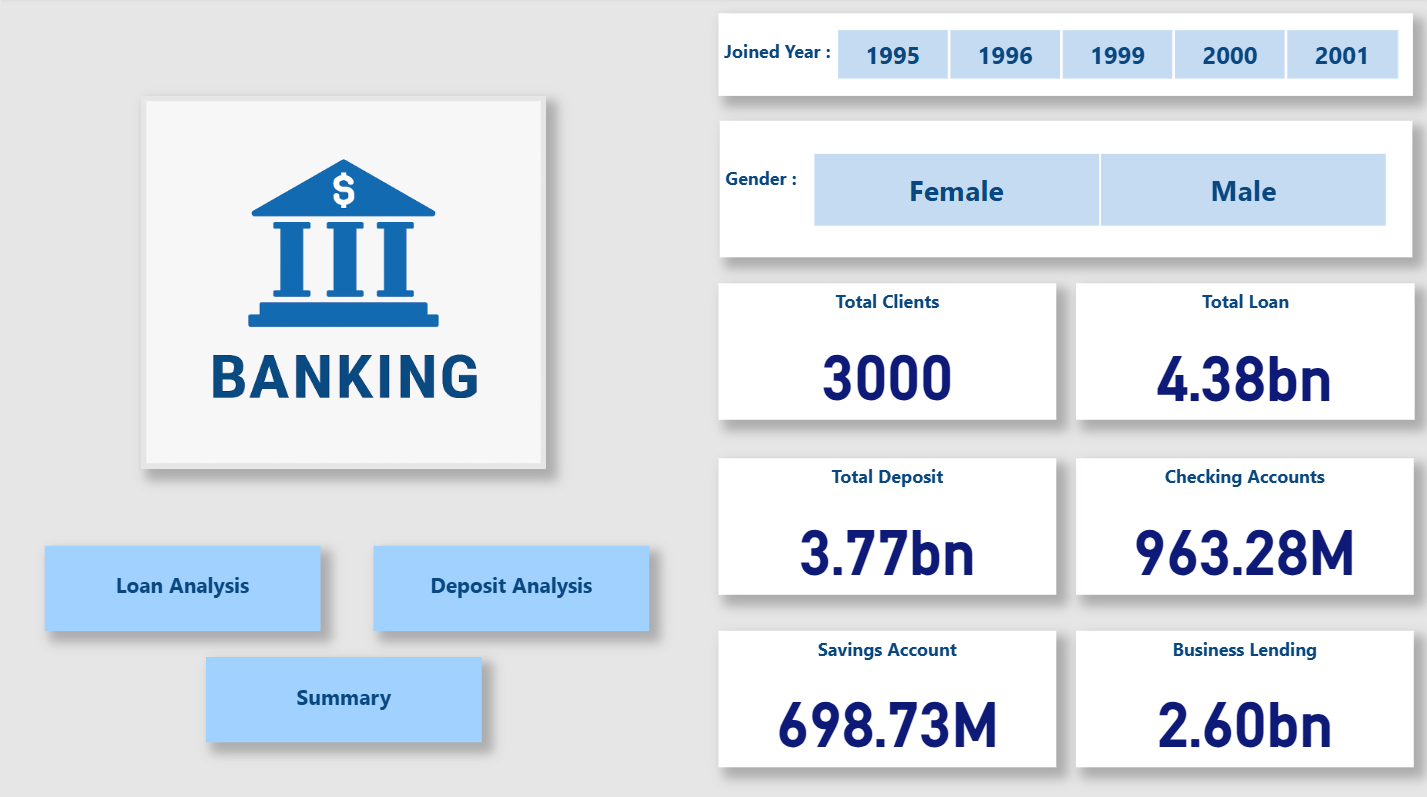

This screenshot's page, from the dashboard's own definition file:
{"tool":"powerbi","page":{"name":"Report","canvas":[1280,720],"ordinal":0},"visuals":[{"type":"textbox","box":[639.3,14.7,618.4,73.6],"z":0},{"type":"textbox","box":[640.5,110.4,617.2,121.5],"z":1000},{"type":"textbox","box":[639.3,255.2,300.6,121.5],"z":2000},{"type":"textbox","box":[957.1,411,300.6,121.5],"z":3000},{"type":"textbox","box":[957.1,255.2,301.8,121.5],"z":4000},{"type":"textbox","box":[639.3,411,300.6,121.5],"z":5000},{"type":"textbox","box":[639.3,564.4,300.6,121.5],"z":6000},{"type":"textbox","box":[957.1,564.4,300.6,121.5],"z":7000},{"type":"textbox","box":[39.3,488.3,245.4,76.1],"z":8000},{"type":"textbox","box":[182.8,587.7,245.4,76.1],"z":9000},{"type":"textbox","box":[331.3,488.3,245.4,76.1],"z":10000},{"type":"image","box":[125.2,88.3,360.7,332.5],"z":11000},{"type":"card","fields":{"Values":["CountNonNull(public customer.name)"]},"box":[672.4,287.1,234.4,89.6],"z":12000},{"type":"card","fields":{"Values":["public customer.Total Loan"]},"box":[977.9,288.3,260.1,89.6],"z":13000},{"type":"card","fields":{"Values":["public customer.Total Deposits"]},"box":[672.4,442.9,234.4,89.6],"z":14000},{"type":"card","fields":{"Values":["Sum(public customer.checking_accounts)"]},"box":[977.9,442.9,260.1,89.6],"z":15000},{"type":"card","fields":{"Values":["Sum(public customer.saving_accounts)"]},"box":[661.4,596.3,256.4,89.6],"z":16000},{"type":"card","fields":{"Values":["Sum(public customer.business_lending)"]},"box":[984.1,595.1,247.9,90.8],"z":17000},{"type":"slicer","fields":{"Values":["public customer.gender"]},"box":[698.2,132.5,559.5,78.5],"z":18000},{"type":"slicer","fields":{"Values":["public customer.joined_bank.Variation.Date Hierarchy.Year"]},"box":[719,22.1,548.5,57.7],"z":19000},{"type":"actionButton","box":[39.3,488.3,245.4,76.1],"z":20000},{"type":"actionButton","box":[331.3,488.3,245.4,76.1],"z":21000},{"type":"actionButton","box":[182.8,587.7,245.4,76.1],"z":22000}]}

Visuals, with their boxes in screenshot pixels (x1, y1, x2, y2), scaled from the page's 1280x720 canvas onto the 1427x797 screenshot:
textbox: left=713, top=16, right=1402, bottom=98
textbox: left=714, top=122, right=1402, bottom=257
textbox: left=713, top=282, right=1048, bottom=417
textbox: left=1067, top=455, right=1402, bottom=589
textbox: left=1067, top=282, right=1403, bottom=417
textbox: left=713, top=455, right=1048, bottom=589
textbox: left=713, top=625, right=1048, bottom=759
textbox: left=1067, top=625, right=1402, bottom=759
textbox: left=44, top=541, right=317, bottom=625
textbox: left=204, top=651, right=477, bottom=735
textbox: left=369, top=541, right=643, bottom=625
image: left=140, top=98, right=542, bottom=466
card - CountNonNull(public customer.name): left=750, top=318, right=1011, bottom=417
card - public customer.Total Loan: left=1090, top=319, right=1380, bottom=418
card - public customer.Total Deposits: left=750, top=490, right=1011, bottom=589
card - Sum(public customer.checking_accounts): left=1090, top=490, right=1380, bottom=589
card - Sum(public customer.saving_accounts): left=737, top=660, right=1023, bottom=759
card - Sum(public customer.business_lending): left=1097, top=659, right=1373, bottom=759
slicer - public customer.gender: left=778, top=147, right=1402, bottom=234
slicer - public customer.joined_bank.Variation.Date Hierarchy.Year: left=802, top=24, right=1413, bottom=88
actionButton: left=44, top=541, right=317, bottom=625
actionButton: left=369, top=541, right=643, bottom=625
actionButton: left=204, top=651, right=477, bottom=735
